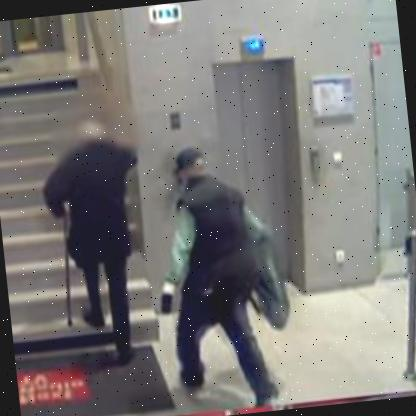person: (148, 132, 301, 416), (33, 107, 166, 372)
